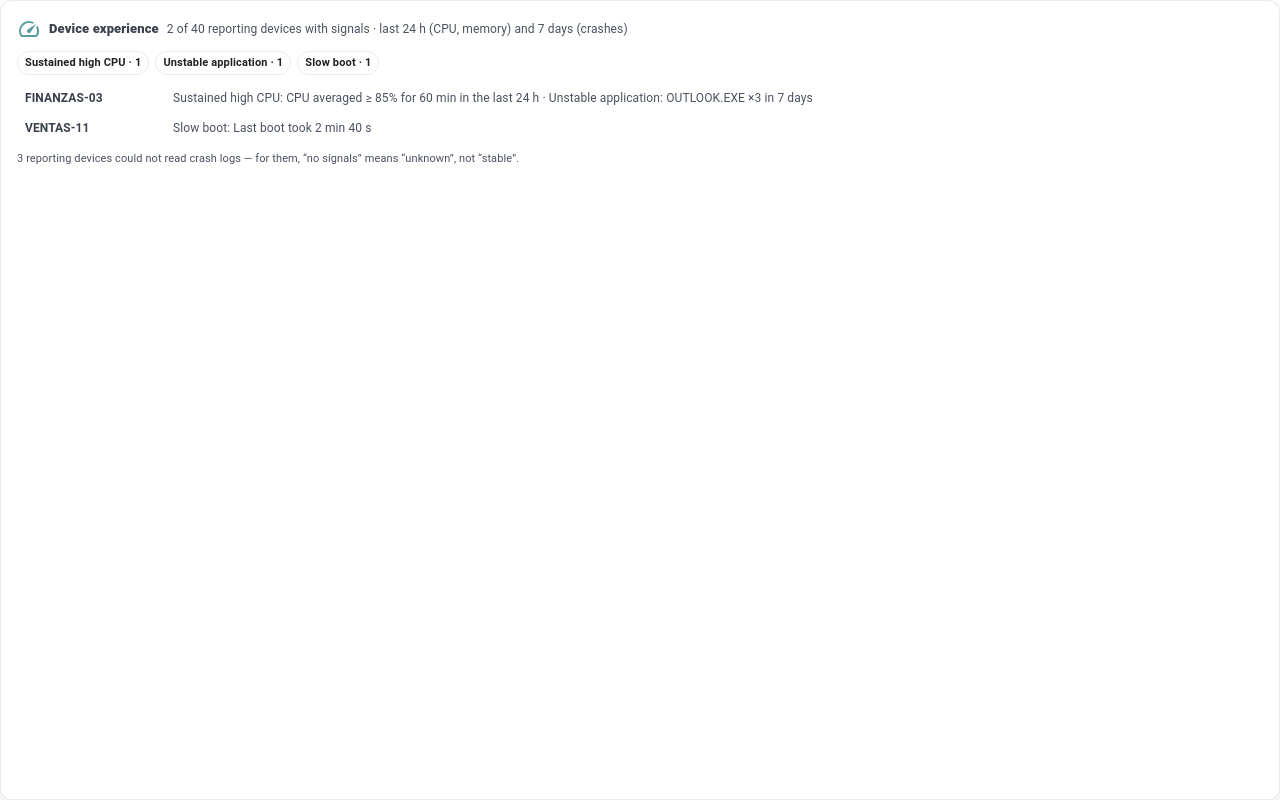
ExperienceFleetCard › filtrar por una señal deja sólo sus equipos
Click the button with test id "dex-count-slow_boot". click: (338, 63)
box: [297,51,379,75]
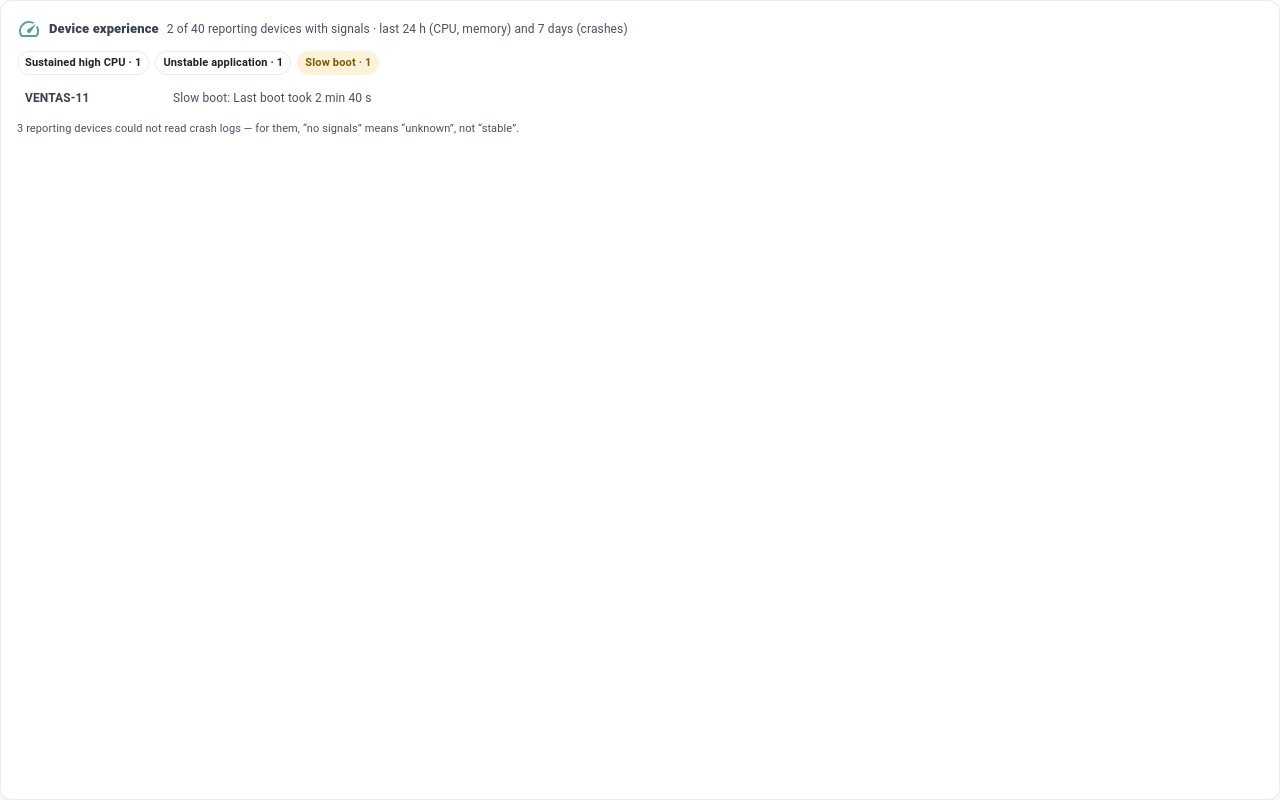
Expected: the text "VENTAS-11" is shown, [25,91,90,105]
Now the button "FINANZAS-03" is gone
